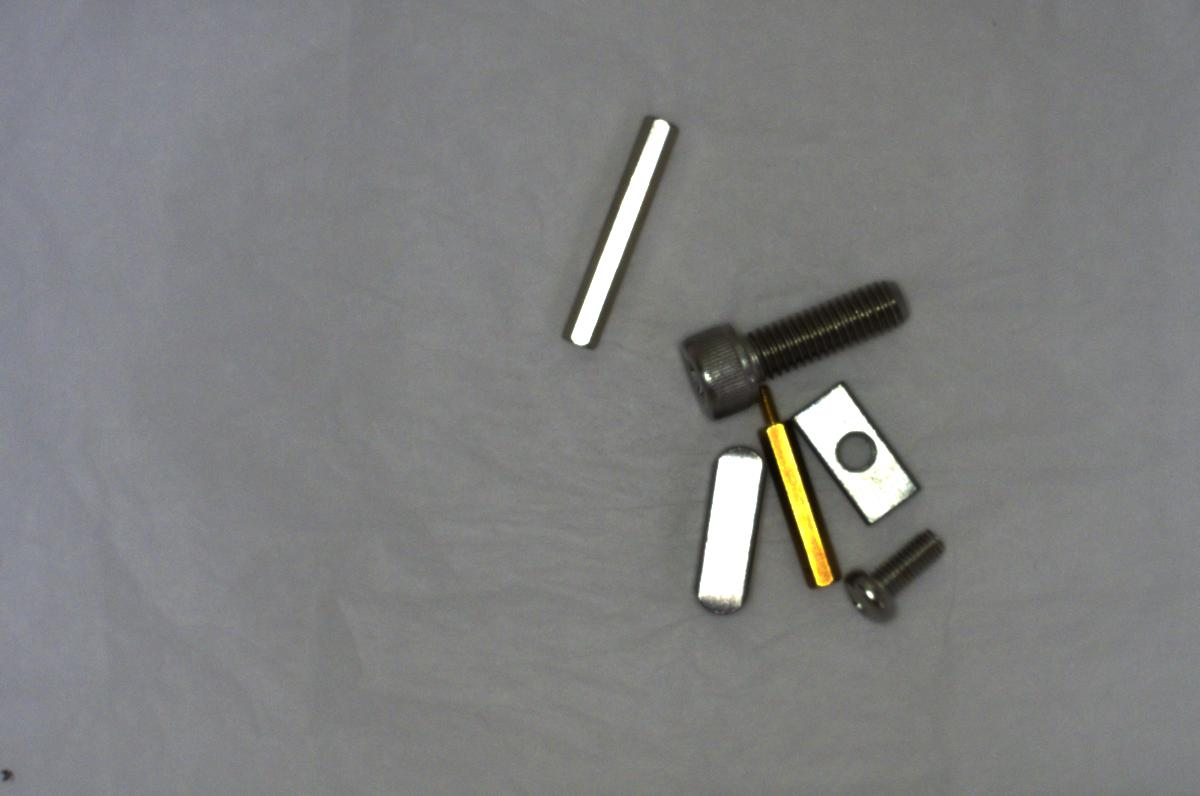Double hexagonal column: (541, 100, 692, 358)
Hexagon pillar: (751, 382, 839, 599)
Hexagon screw: (665, 265, 929, 431)
Keybar: (676, 433, 778, 618)
Rectangular nut: (785, 372, 928, 528)
Round head screw: (846, 517, 952, 632)
